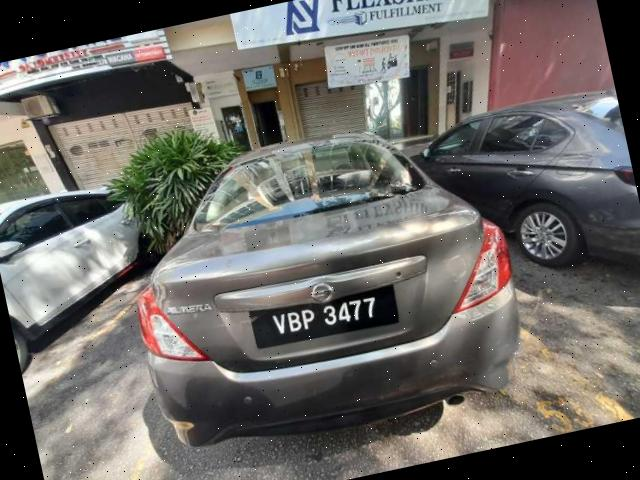License_Plate: (249, 283, 402, 353)
car: (107, 101, 539, 468)
